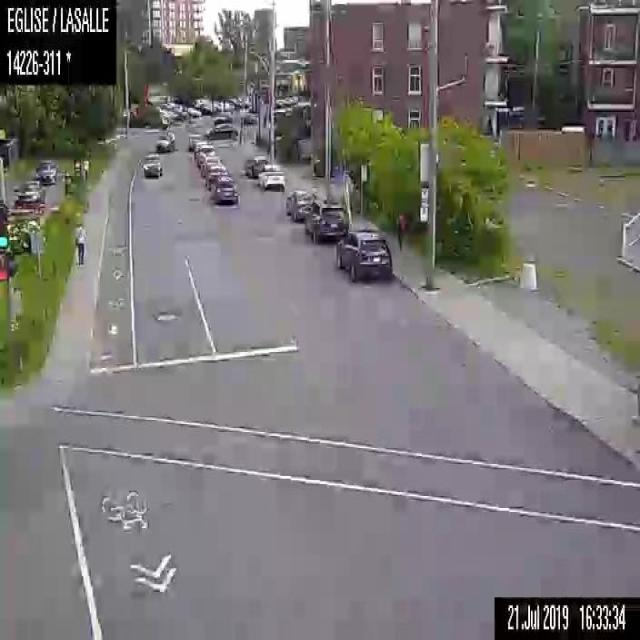pedestrian: (74, 222, 86, 266), (394, 209, 404, 251)
vehicle: (333, 230, 392, 282), (302, 198, 349, 244), (284, 189, 318, 222), (12, 180, 47, 208), (210, 175, 238, 205), (260, 163, 284, 190), (35, 158, 58, 184), (205, 123, 237, 141), (141, 154, 162, 179), (243, 156, 269, 176), (204, 165, 228, 186), (154, 130, 174, 152), (198, 154, 222, 172), (211, 110, 233, 124)
